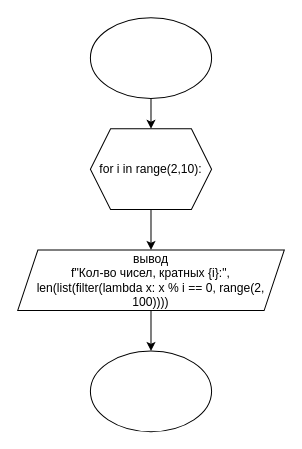
Image size: 302x449. Some labels were removed from this diagram. Here are the shapes that lost their labels. From the top down, the centre of each, then its label:
(x=150, y=57): начало
(x=150, y=391): конец
